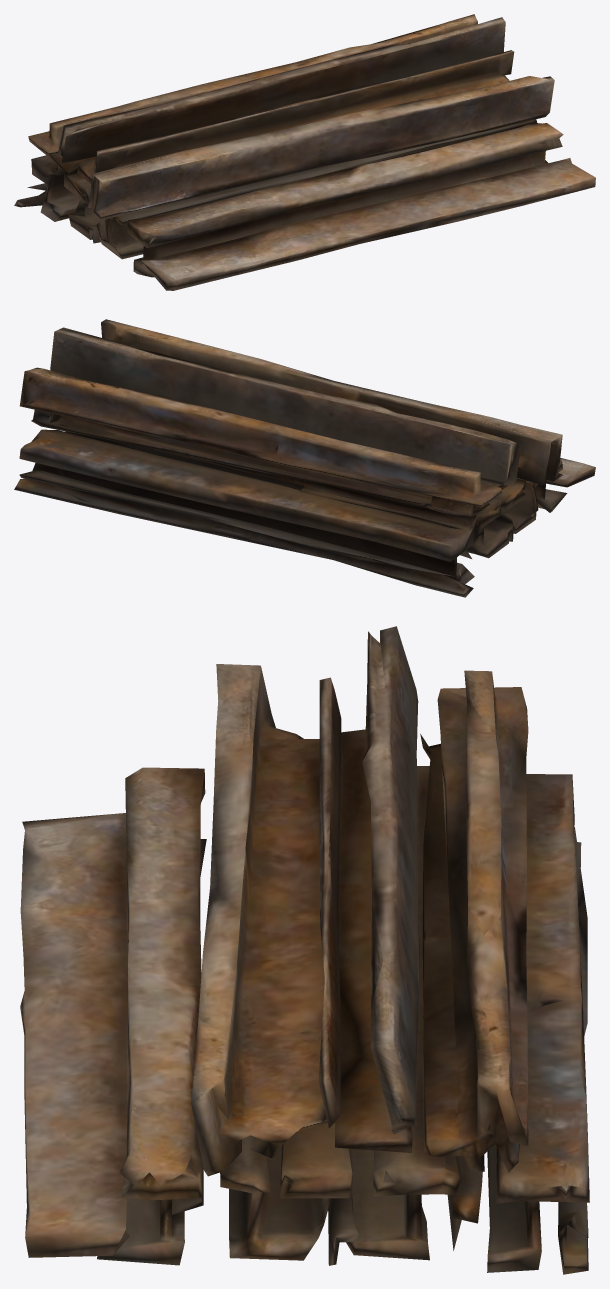
File: qr_beams.glb
3 renders of one model, top to bottom at view 1: azimuth 30°, elevation 25°; view 2: azimuth 150°, elevation 25°; view 3: azimuth 270°, elevation 25°, orthographic. The views are drawn at different scales.
Visible parts, largest first — view 1: tripo_node_dc0410b3-ea0e-4be3-b4ac-90b619cb9fec; view 2: tripo_node_dc0410b3-ea0e-4be3-b4ac-90b619cb9fec; view 3: tripo_node_dc0410b3-ea0e-4be3-b4ac-90b619cb9fec.
Part boxes in pixels (left/top/right/bottom): tripo_node_dc0410b3-ea0e-4be3-b4ac-90b619cb9fec: left=14, top=14, right=595, bottom=290; tripo_node_dc0410b3-ea0e-4be3-b4ac-90b619cb9fec: left=14, top=319, right=595, bottom=597; tripo_node_dc0410b3-ea0e-4be3-b4ac-90b619cb9fec: left=20, top=626, right=589, bottom=1274.
Bounding box in the file's own units: 1 × 0.2496 × 0.5511.
1 material, 1 textured.
